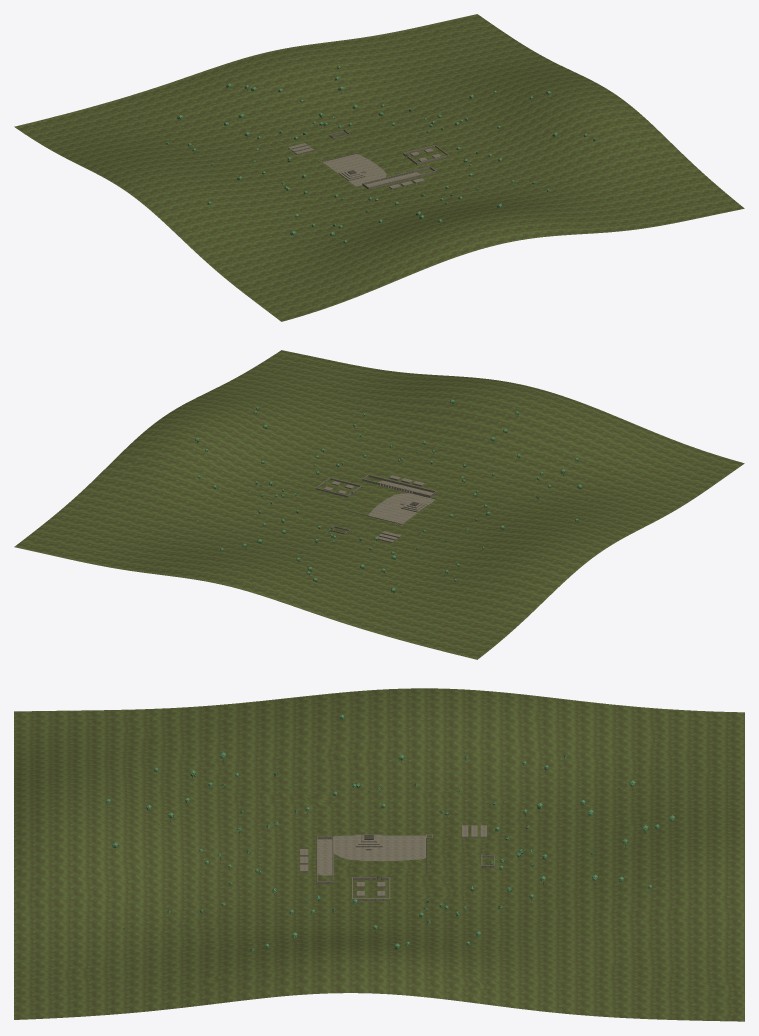
3 renders of one model, top to bottom at view 1: azimuth 30°, elevation 25°; view 2: azimuth 150°, elevation 25°; view 3: azimuth 270°, elevation 25°, orthographic. The views are drawn at different scales.
Visible parts, largest first — view 1: GEO-Aypate_LOD1_Terrain, GEO-Aypate_LOD1_City, GEO-Aypate_LOD1_Props; view 2: GEO-Aypate_LOD1_Terrain, GEO-Aypate_LOD1_City, GEO-Aypate_LOD1_Props; view 3: GEO-Aypate_LOD1_Terrain, GEO-Aypate_LOD1_City, GEO-Aypate_LOD1_Props.
Boxes of the visible parts, x1,y1,x2,y2 form: GEO-Aypate_LOD1_Terrain: (14, 14, 744, 321); GEO-Aypate_LOD1_City: (288, 131, 449, 189); GEO-Aypate_LOD1_Props: (165, 66, 603, 245); GEO-Aypate_LOD1_Terrain: (14, 350, 744, 659); GEO-Aypate_LOD1_City: (315, 474, 436, 542); GEO-Aypate_LOD1_Props: (195, 398, 582, 594); GEO-Aypate_LOD1_Terrain: (14, 688, 744, 1021); GEO-Aypate_LOD1_City: (300, 825, 494, 900); GEO-Aypate_LOD1_Props: (106, 714, 675, 961).
Size of the model in its own units: 700 by 47.04 by 700.
8 materials, 4 textured.
